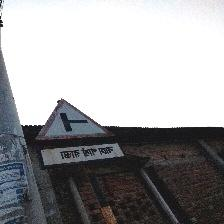Side-road-left: (33, 98, 132, 170)
